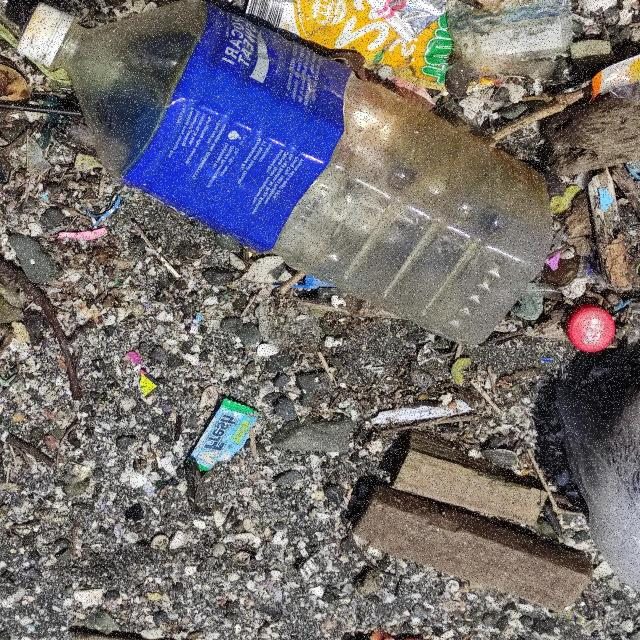plastic_waste: (18, 2, 569, 348), (246, 1, 458, 91), (191, 399, 261, 473), (567, 302, 616, 352), (128, 350, 159, 396)
wood_waste: (352, 485, 594, 615)
